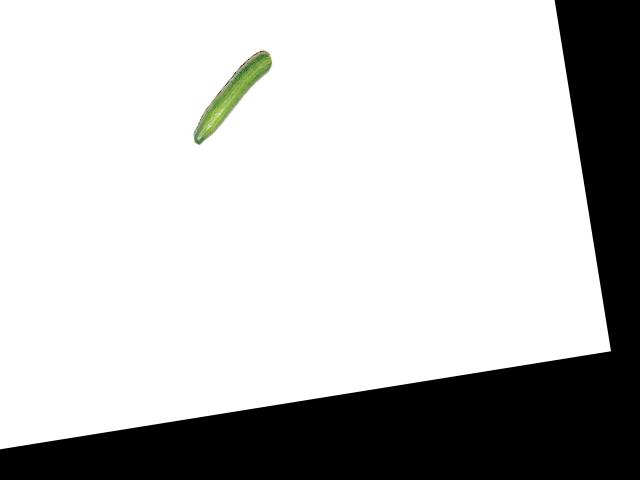cucumber: (182, 49, 283, 145)
